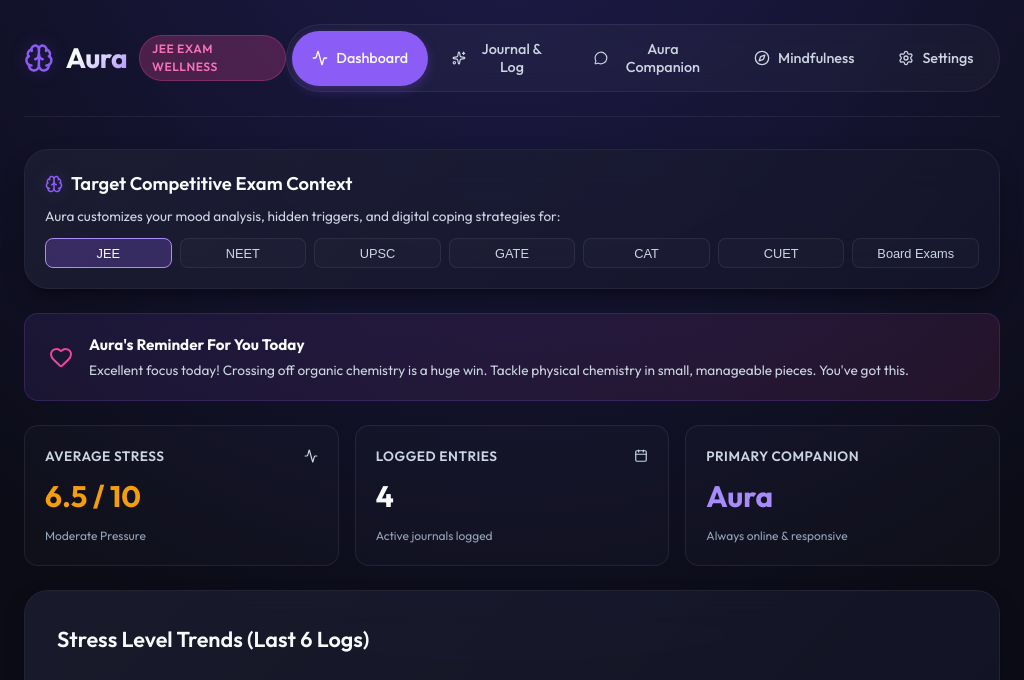
Aura Mental Wellness Tracker - App Component Tests › updates the selected target exam context when exam selectors are clicked
The image size is (1024, 680).
Click on UPSC exam button
Click the button "UPSC".
click(378, 253)  # box x1=314 y1=238 x2=441 y2=268
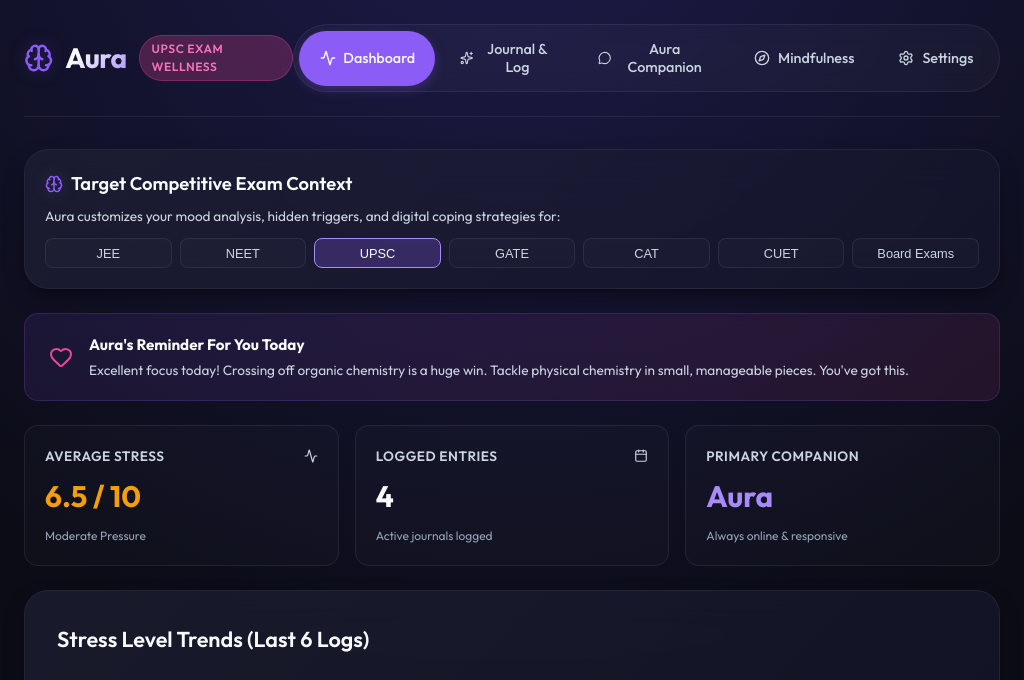
Expected: the text "UPSC EXAM WELLNESS" is shown, x1=139 y1=35 x2=293 y2=81
